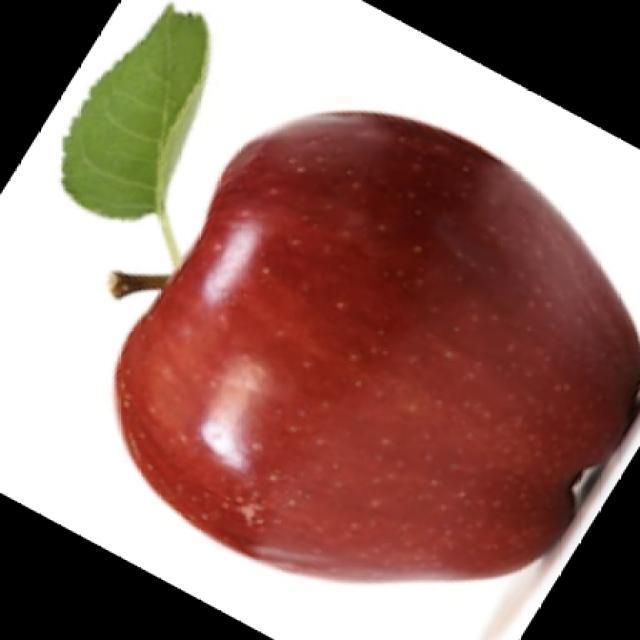Fresh Apple: (91, 70, 640, 591)
